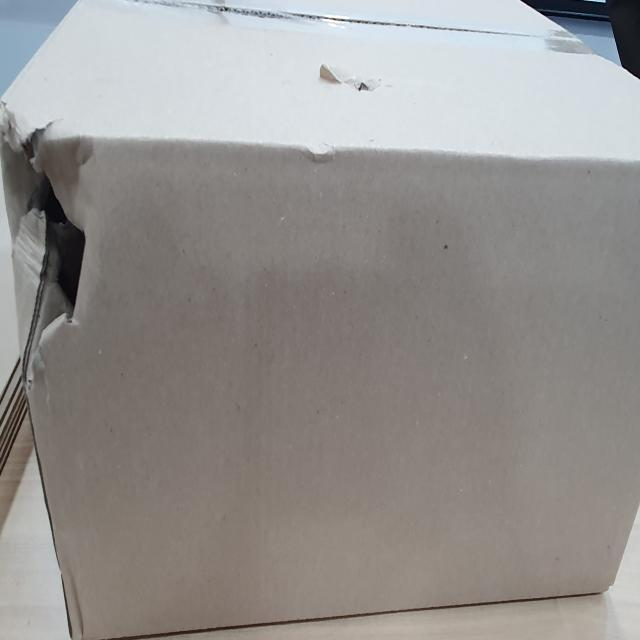hole: (6, 129, 94, 372)
